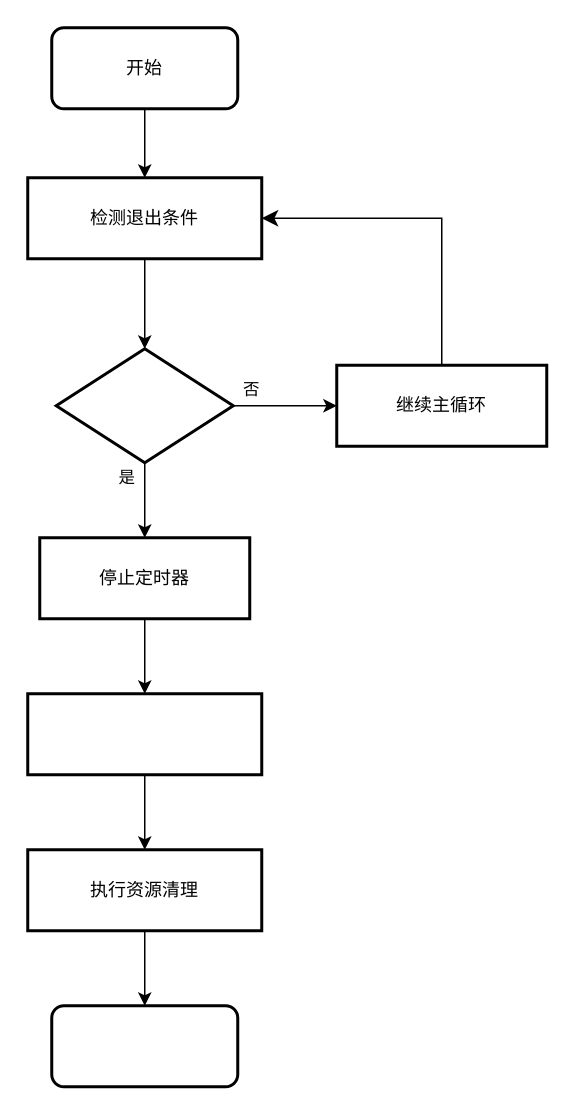
The diagram is 573 pixels wide and 1113 high, and some of its shapes have lost their labels. The shapes that lost their labels are listed below. From the top down, each one's centre as x and y in pixels, then its label:
(x=144, y=405): 是否退出
(x=144, y=734): 停止电机输出
(x=144, y=1046): 结束
